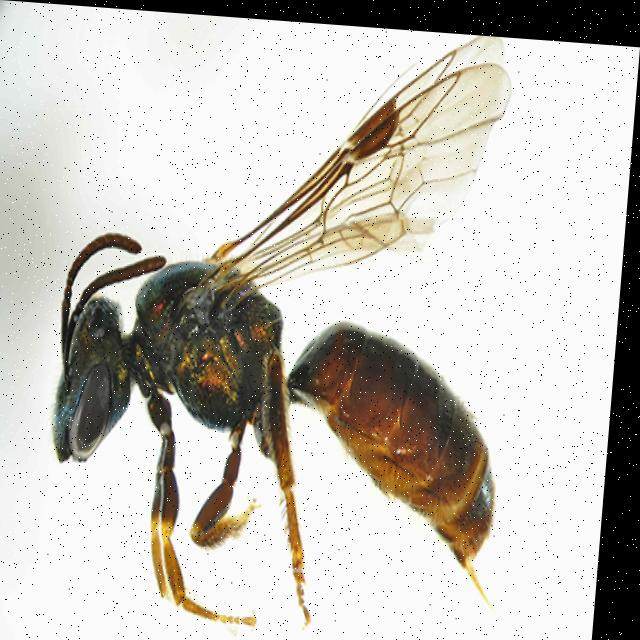Allodapula: (39, 6, 543, 634)
